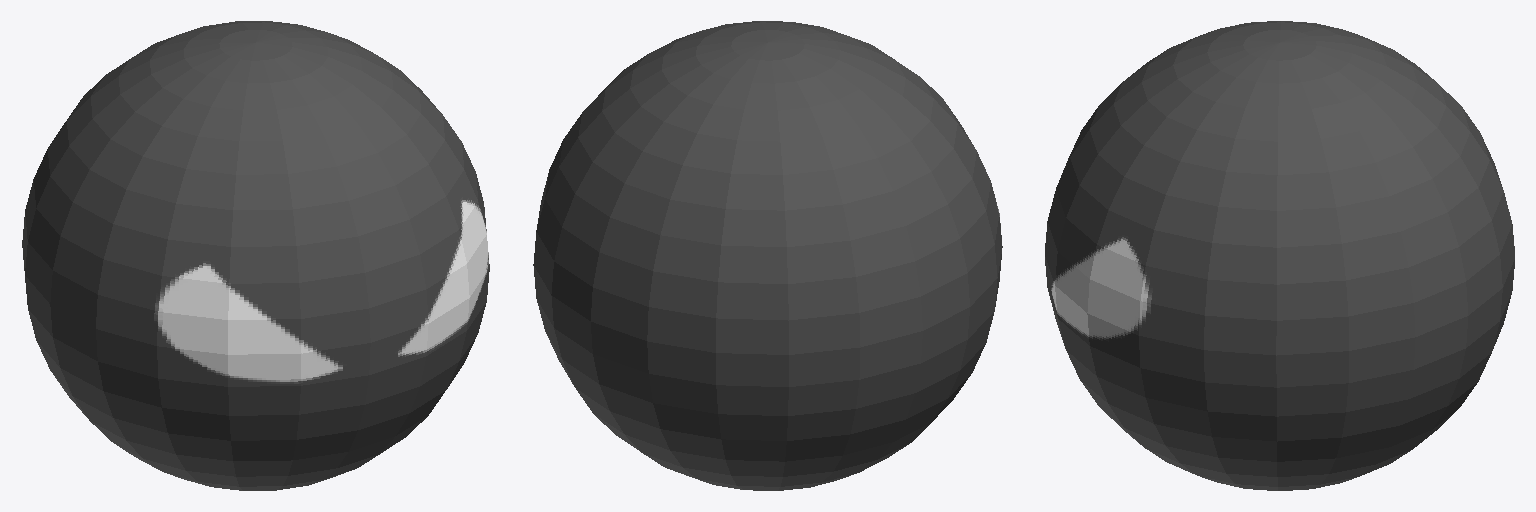
3 views of the same model, side by side, from view 1: azimuth 30°, elevation 25°; view 2: azimuth 150°, elevation 25°; view 3: azimuth 270°, elevation 25° (orthographic).
Parts seen in each view (by area): view 1: pSphere6; view 2: pSphere6; view 3: pSphere6.
Boxes of the visible parts, x1=… form: pSphere6: x1=22, y1=21, x2=489, y2=490; pSphere6: x1=533, y1=21, x2=1002, y2=490; pSphere6: x1=1045, y1=21, x2=1514, y2=490.
Size of the model in its own units: 0.3777 by 0.3777 by 0.3777.
1 materials, 1 textured.